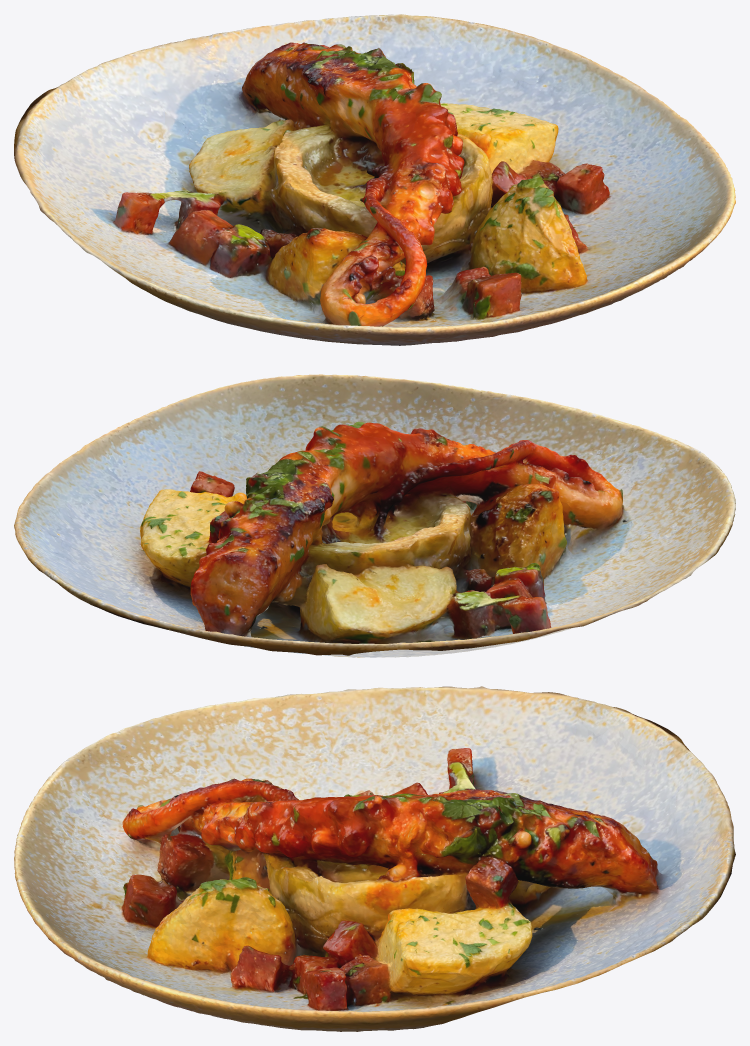
File: pulpo.glb
3 views of the same model, one above another, from view 1: azimuth 30°, elevation 25°; view 2: azimuth 150°, elevation 25°; view 3: azimuth 270°, elevation 25° (orthographic). The views are drawn at different scales.
Visible parts, largest first — view 1: Object_2; view 2: Object_2; view 3: Object_2.
Boxes of the visible parts, bbox=[...] form: Object_2: bbox=[14, 14, 735, 345]; Object_2: bbox=[14, 374, 735, 657]; Object_2: bbox=[14, 686, 735, 1031].
Bounding box in the file's own units: 0.29 × 0.083 × 0.2887.
Materials: 1 (1 with a texture image).
